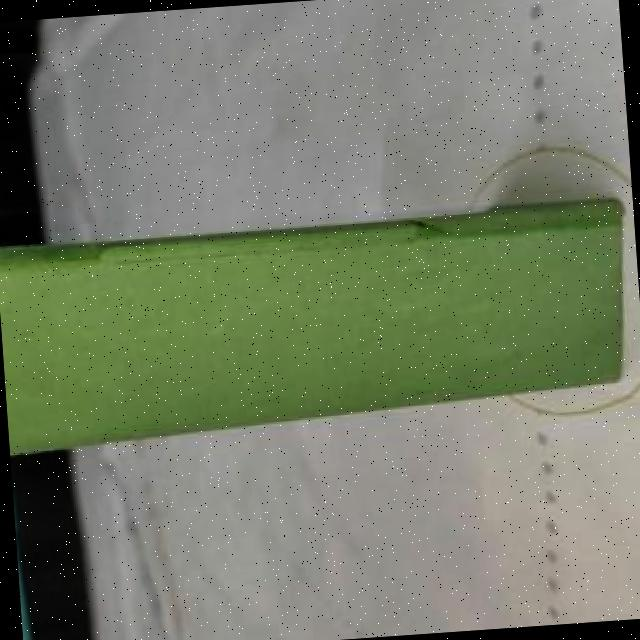greenbox: (0, 203, 625, 453)
